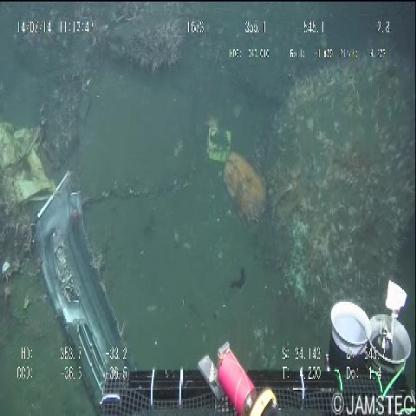Rov: (86, 274, 416, 411)
Rác: (35, 168, 137, 379)
